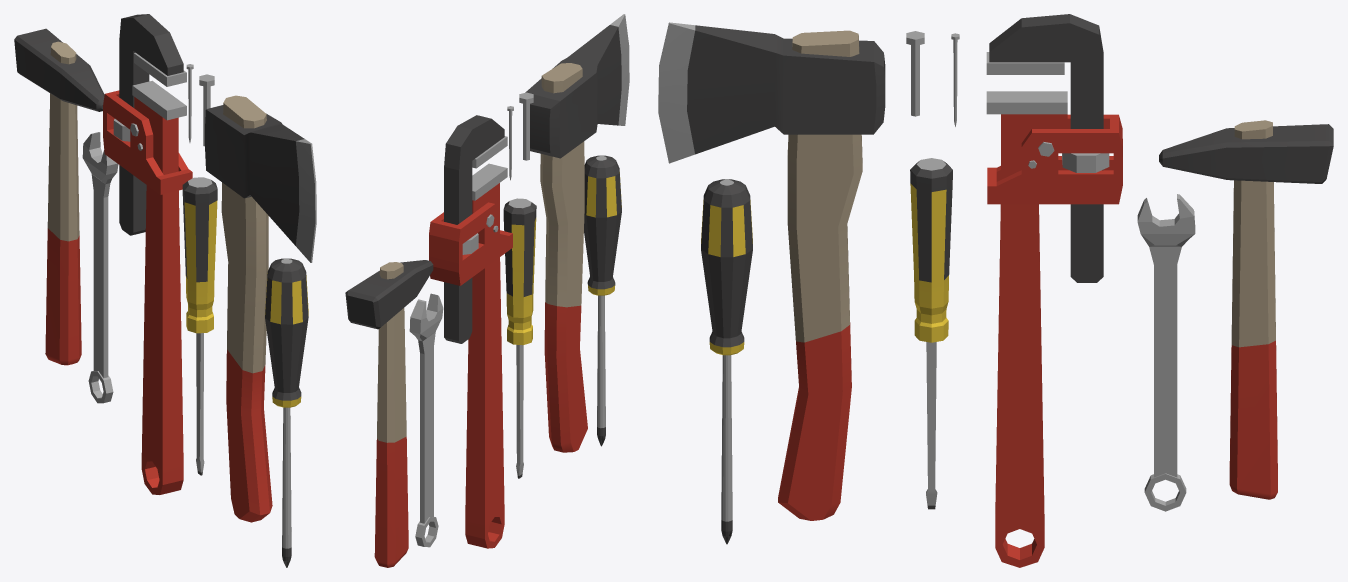
The model's file is Tools.fbx.
The picture shows the model from 3 angles, left to right: view 1: azimuth 30°, elevation 25°; view 2: azimuth 150°, elevation 25°; view 3: azimuth 270°, elevation 25°; orthographic projection. The views are drawn at different scales.
Visible parts, largest first — view 1: Topor, GazKluch, pCube12, Molotok, Otvertla_X, pCube2, Kluch, Otvertka_I, pCube10, pCube9, polySurface3, pCube6 (+3 smaller); view 2: Topor, GazKluch, pCube12, Molotok, pCube2, Otvertla_X, pCube9, Kluch, Otvertka_I, pCube10, polySurface3, polySurface2 (+3 smaller); view 3: Topor, pCube12, GazKluch, Molotok, pCube2, Kluch, pCube9, pCube10, Otvertla_X, Otvertka_I, polySurface3, pCube6 (+4 smaller).
Boxes of the visible parts, left/top/right/bottom form: Topor: left=221, top=95, right=272, bottom=522; GazKluch: left=134, top=97, right=183, bottom=494; pCube12: left=205, top=105, right=316, bottom=262; Molotok: left=45, top=41, right=81, bottom=365; Otvertla_X: left=265, top=258, right=308, bottom=407; pCube2: left=119, top=14, right=183, bottom=235; Kluch: left=82, top=132, right=118, bottom=403; Otvertka_I: left=182, top=177, right=217, bottom=333; pCube10: left=14, top=28, right=104, bottom=111; pCube9: left=103, top=90, right=192, bottom=194; polySurface3: left=282, top=407, right=291, bottom=567; pCube6: left=132, top=80, right=186, bottom=120; Topor: left=540, top=63, right=587, bottom=452; GazKluch: left=465, top=183, right=504, bottom=548; pCube12: left=525, top=14, right=629, bottom=158; Molotok: left=374, top=262, right=408, bottom=567; pCube2: left=444, top=115, right=504, bottom=343; Otvertla_X: left=584, top=155, right=621, bottom=295; pCube9: left=429, top=202, right=512, bottom=285; Kluch: left=409, top=293, right=443, bottom=547; Otvertka_I: left=503, top=198, right=536, bottom=345; pCube10: left=345, top=260, right=433, bottom=329; polySurface3: left=597, top=295, right=605, bottom=446; polySurface2: left=516, top=345, right=523, bottom=478; Topor: left=778, top=30, right=862, bottom=520; pCube12: left=658, top=22, right=885, bottom=163; GazKluch: left=995, top=114, right=1067, bottom=567; Molotok: left=1229, top=120, right=1277, bottom=499; pCube2: left=989, top=14, right=1103, bottom=282; Kluch: left=1137, top=194, right=1195, bottom=511; pCube9: left=987, top=114, right=1122, bottom=204; pCube10: left=1159, top=124, right=1333, bottom=183; Otvertla_X: left=701, top=179, right=752, bottom=355; Otvertka_I: left=910, top=158, right=952, bottom=342; polySurface3: left=721, top=355, right=732, bottom=544; pCube6: left=986, top=91, right=1067, bottom=114.
Size of the model in its own units: 1.67 by 19.14 by 21.56.
